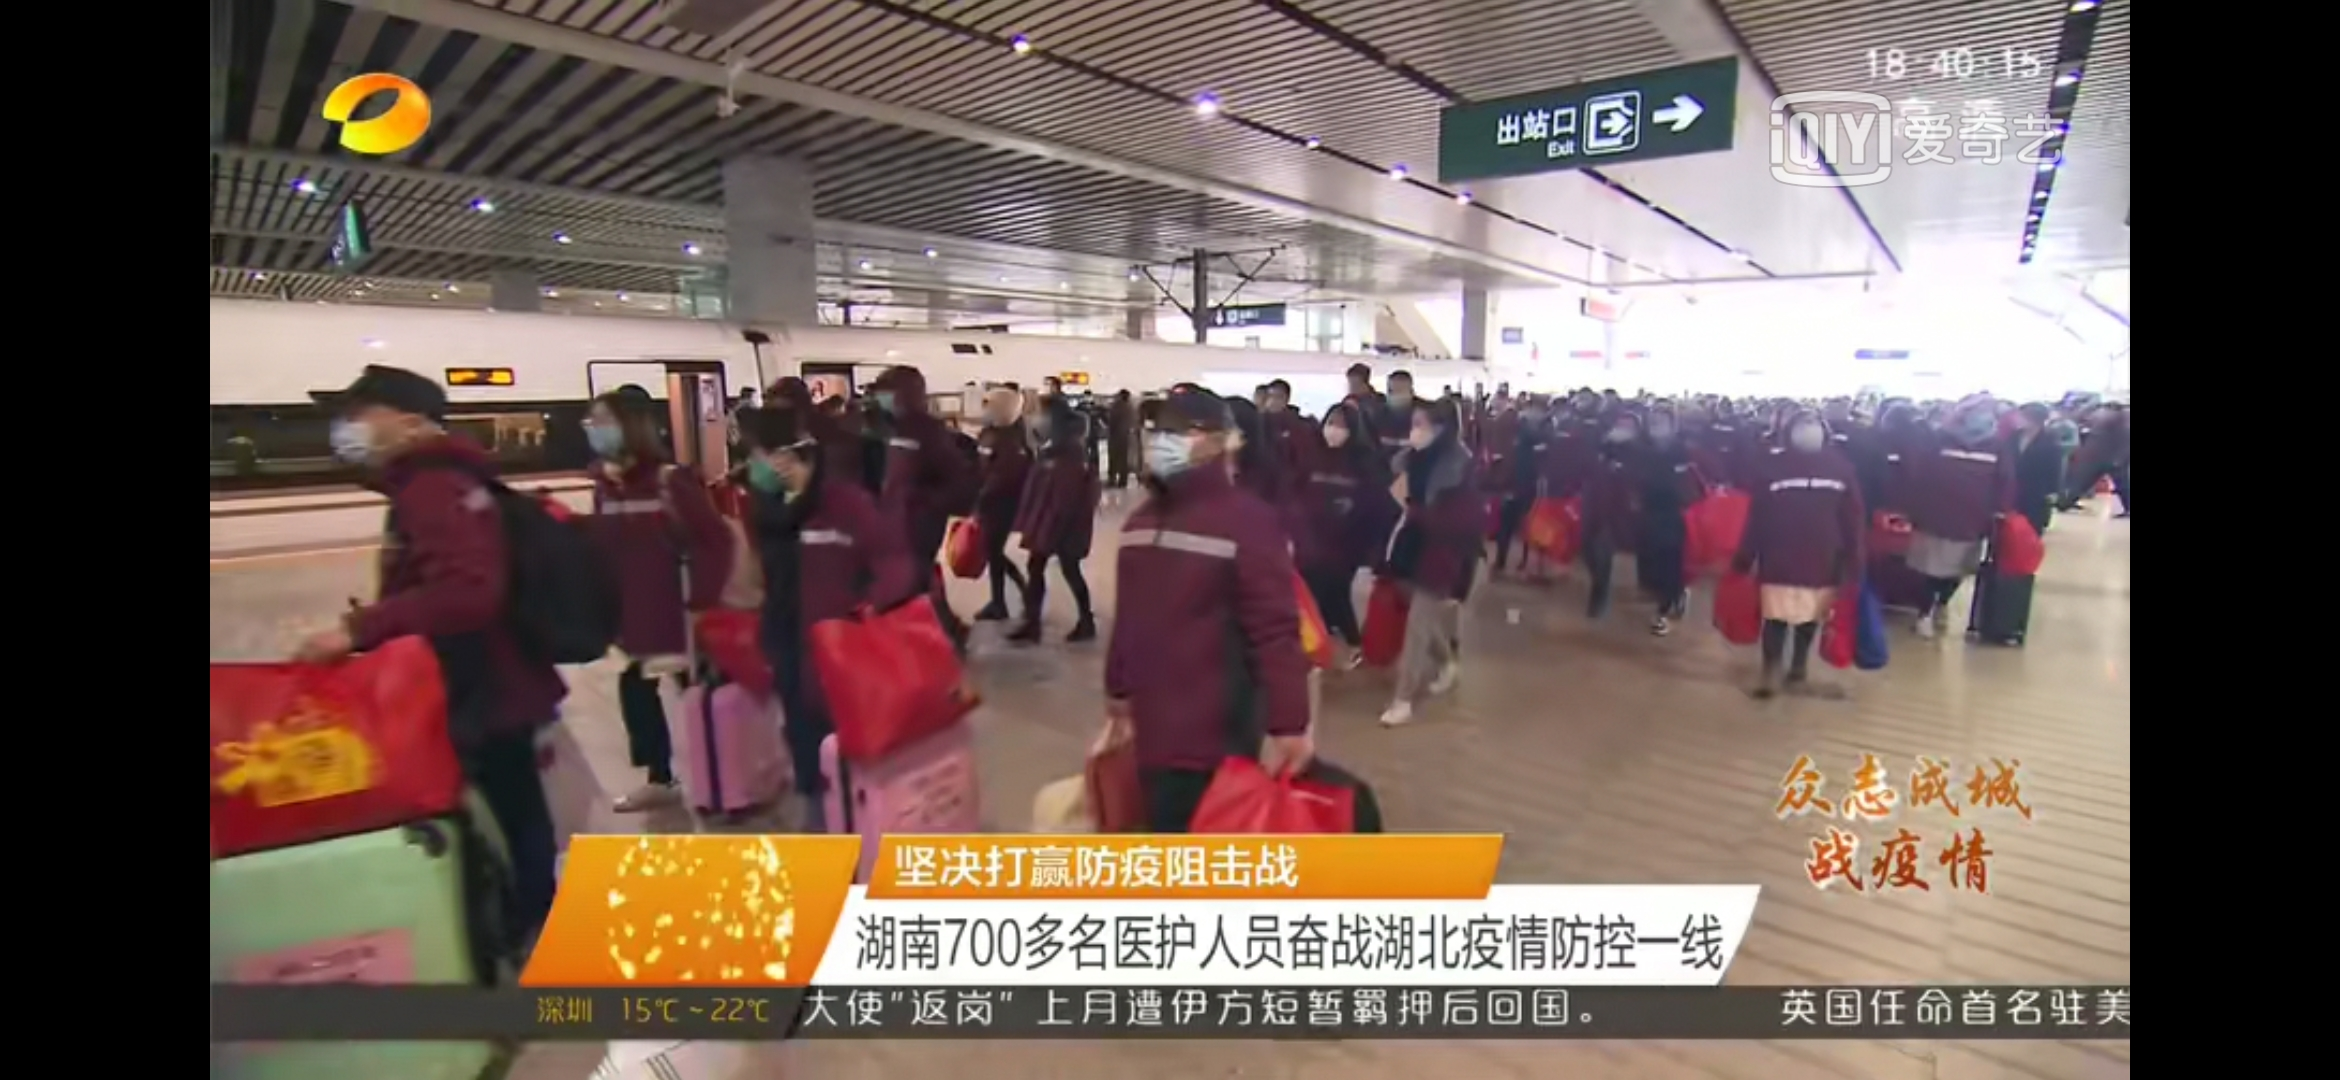correctlyWear: (319, 400, 422, 471), (1145, 415, 1221, 489), (745, 437, 816, 506), (581, 409, 627, 462), (1404, 419, 1440, 456), (1791, 416, 1824, 452), (1322, 416, 1352, 455), (1386, 377, 1415, 412), (1031, 401, 1057, 436)
